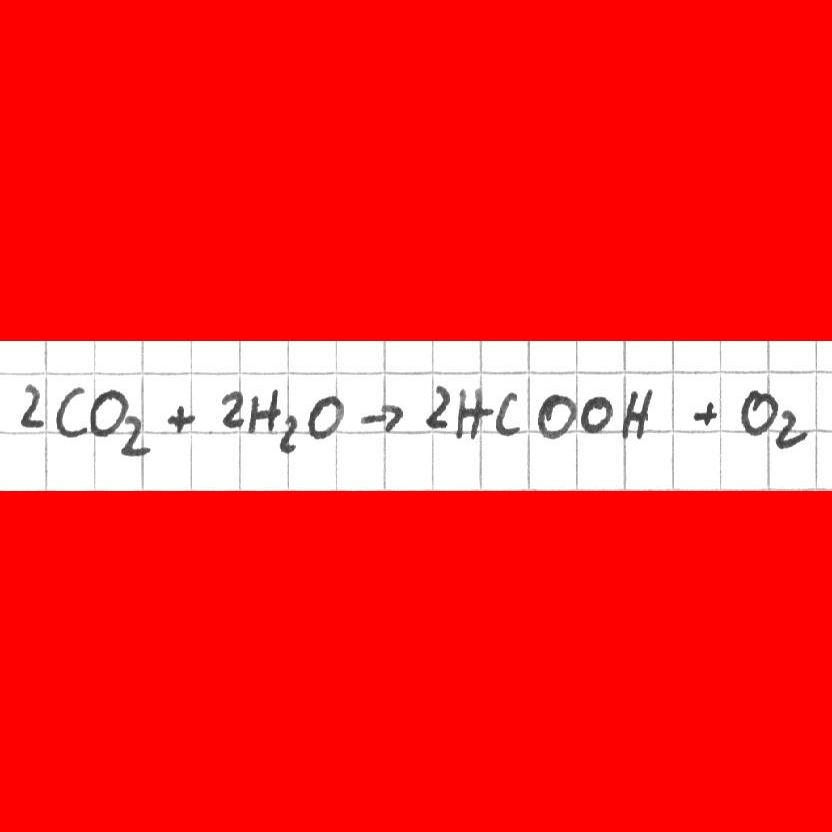Char: (454, 385, 490, 443), (618, 386, 654, 442), (738, 385, 776, 438), (88, 387, 126, 437), (535, 393, 576, 437), (51, 388, 88, 435), (306, 392, 343, 437), (248, 385, 281, 434), (578, 392, 615, 435), (356, 402, 405, 433), (19, 380, 47, 431), (776, 407, 810, 448), (120, 414, 151, 458), (422, 383, 449, 432), (494, 388, 521, 437), (218, 387, 244, 431), (165, 401, 196, 437), (277, 413, 301, 454), (691, 398, 718, 428)
